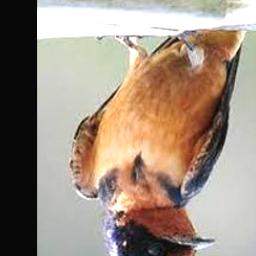Swallow: (69, 30, 246, 256)
